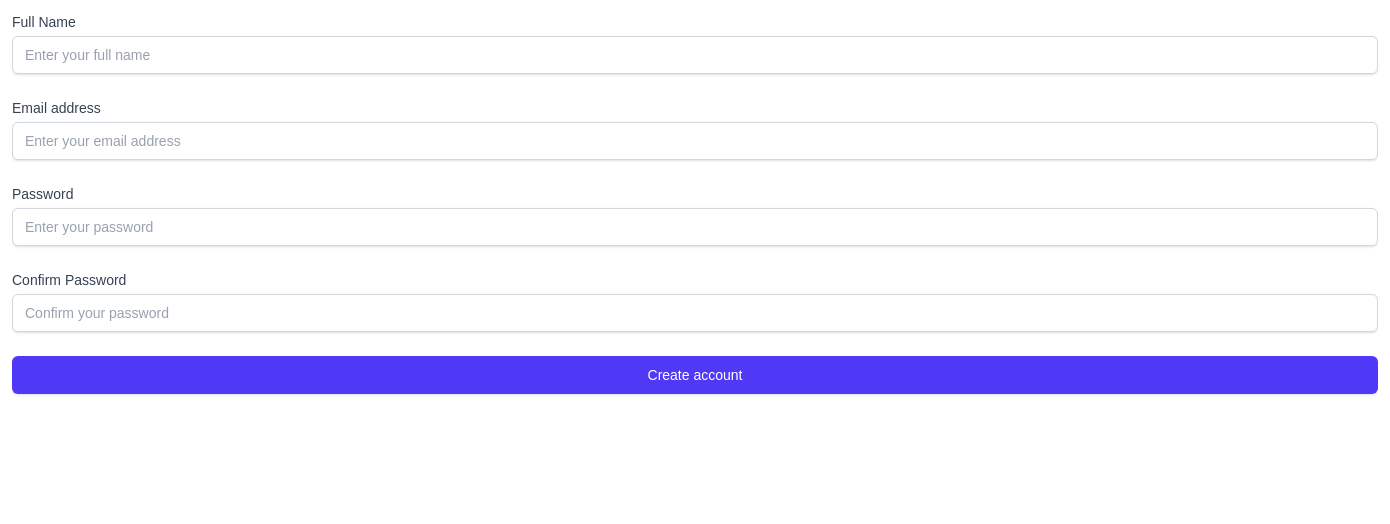
Test case: SignupForm › should show password strength indicator
# Weak password
Type "123" into the password field labelled "Password".
click(695, 227); type("123")  # box 12,208 -> 1378,246
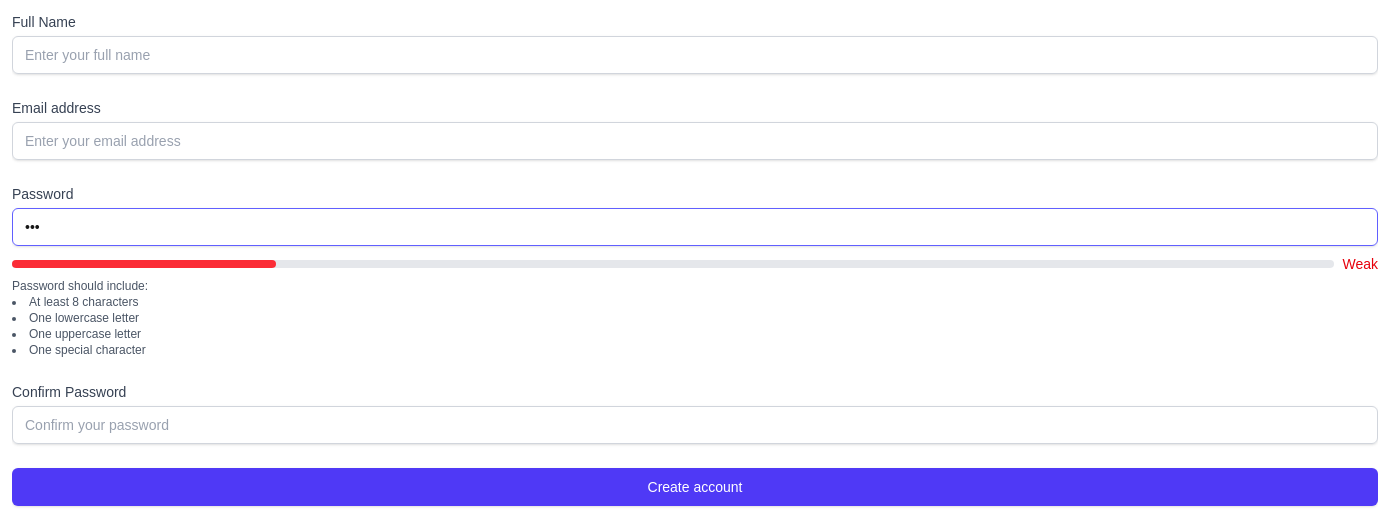
Result: the text "Weak" is shown at 1342,254 -> 1378,274
Result: the list item "At least 8 characters" is shown at 29,295 -> 138,309
# Clear and type stronger password
Type "Password123!" into the password field labelled "Password".
click(695, 227); type("Password123!")  # box 12,208 -> 1378,246
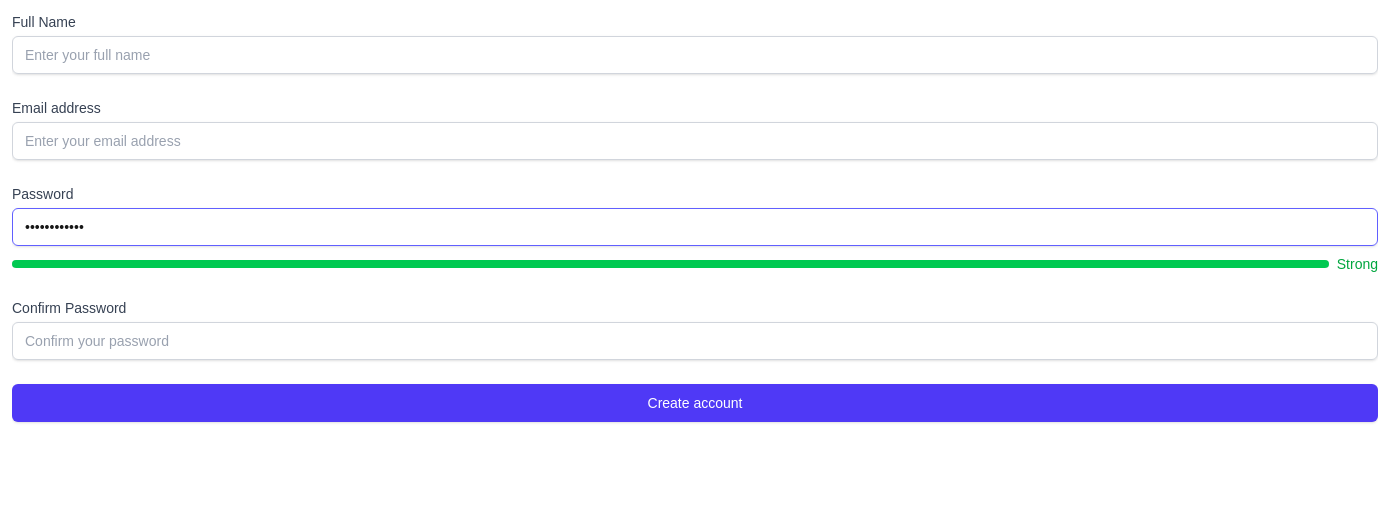
Result: the text "Strong" is shown at 1337,254 -> 1378,274
